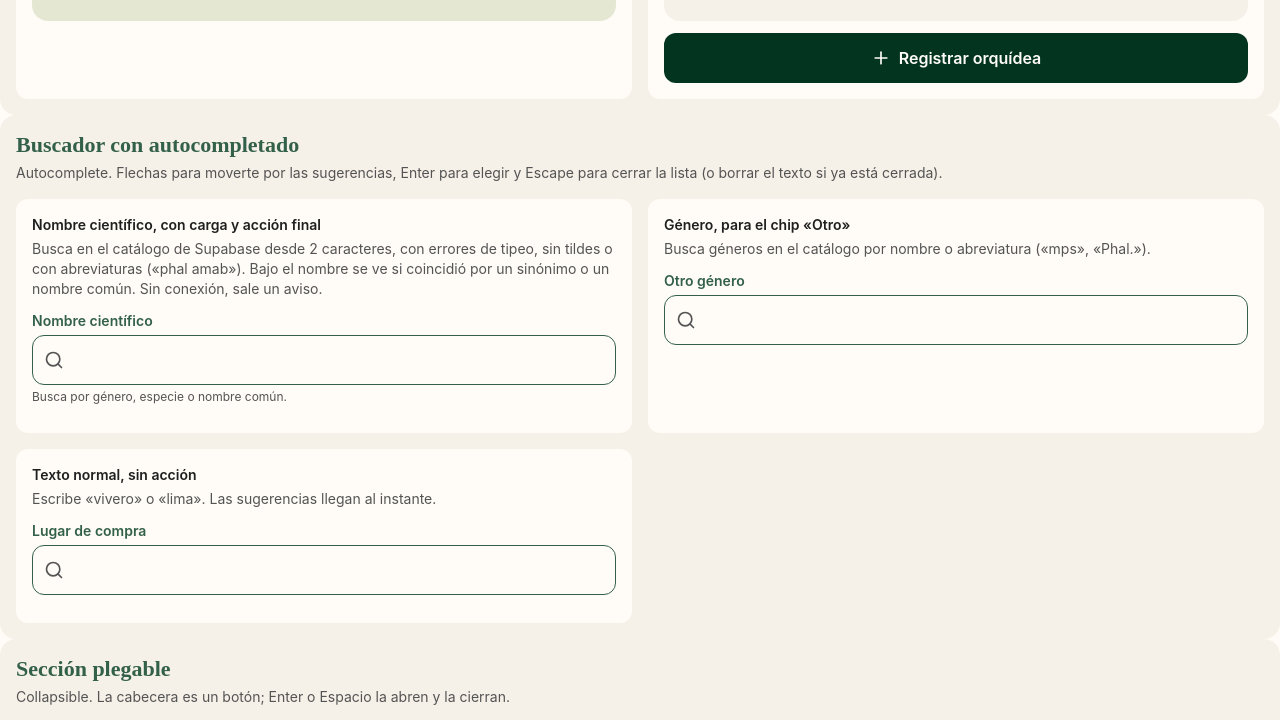
Test case: ShowcasePage con Supabase › con un fallo del servidor muestra el mensaje de error general
(page scrolled)
In the dropdown labelled "Nombre científico": point(324, 360) x1=32 y1=335 x2=616 y2=385, type "phal"
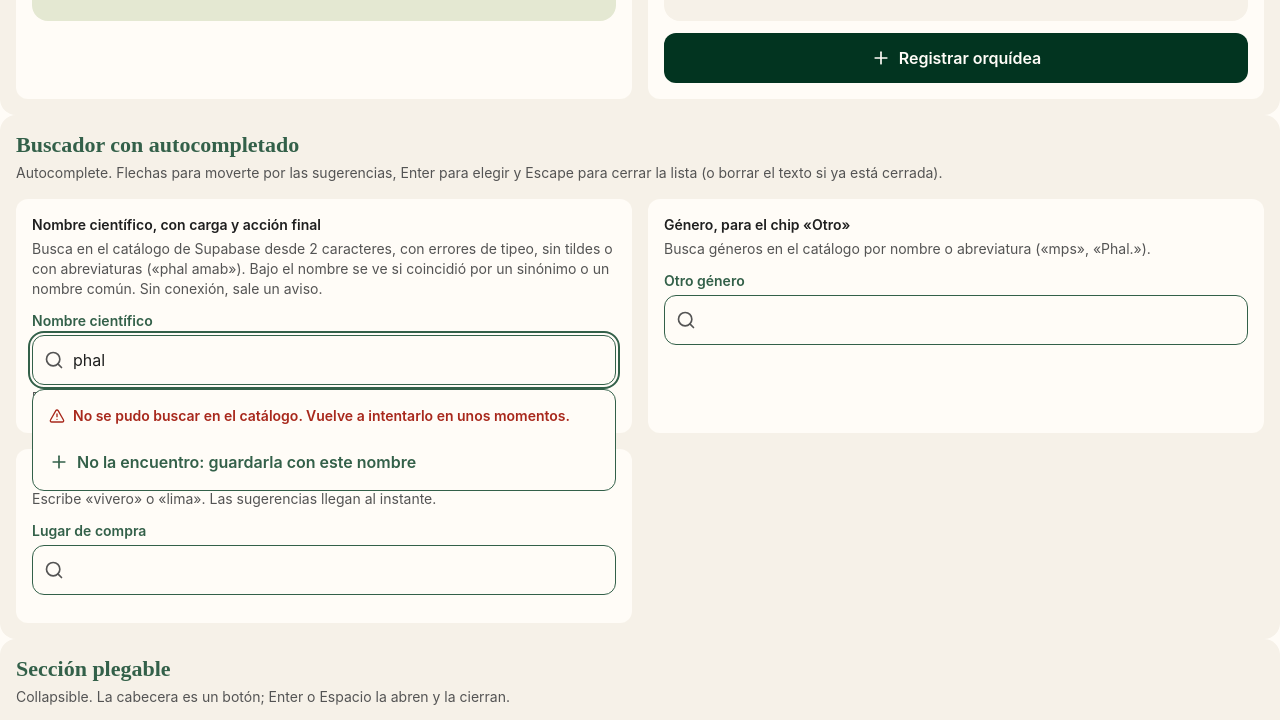
Expected: the text "No se pudo buscar en el catálogo. Vuelve a intentarlo en unos momentos." is shown, x1=49 y1=407 x2=570 y2=424
